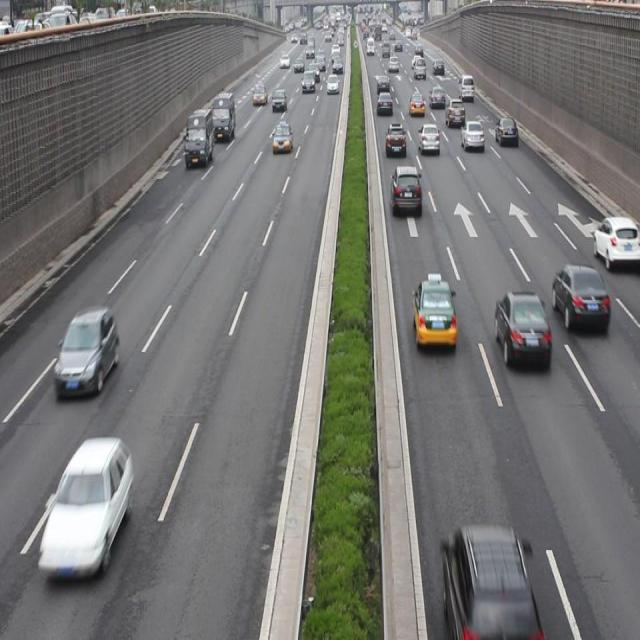car: (41, 436, 132, 573), (443, 522, 539, 640), (53, 307, 119, 395), (495, 289, 550, 369), (552, 263, 608, 331), (411, 279, 456, 348), (590, 215, 640, 265), (384, 122, 406, 159), (459, 119, 484, 151), (494, 115, 518, 146), (417, 122, 440, 154), (272, 120, 292, 154), (444, 96, 465, 128)
truck: (184, 107, 214, 168), (389, 163, 422, 215), (210, 92, 235, 142)
